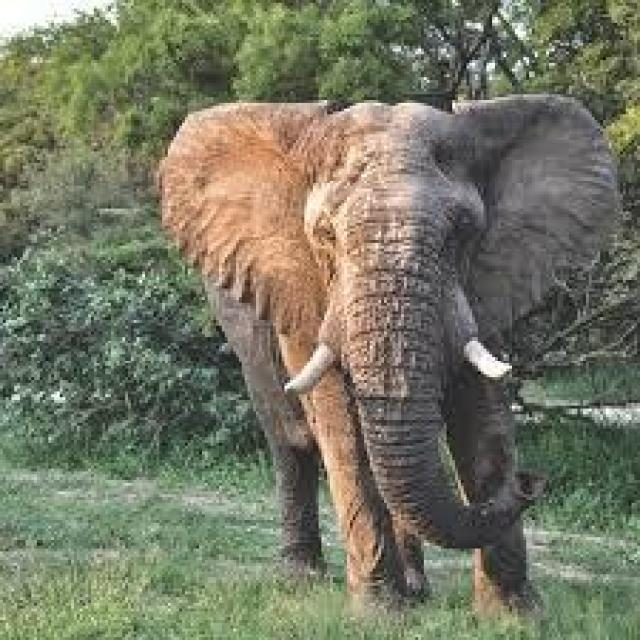Elephant: (153, 94, 614, 606)
